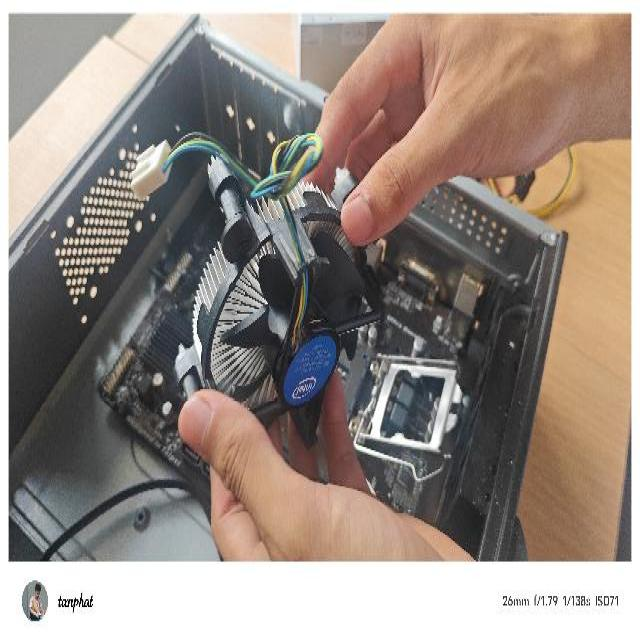CPU_Fan: (170, 136, 402, 455)
